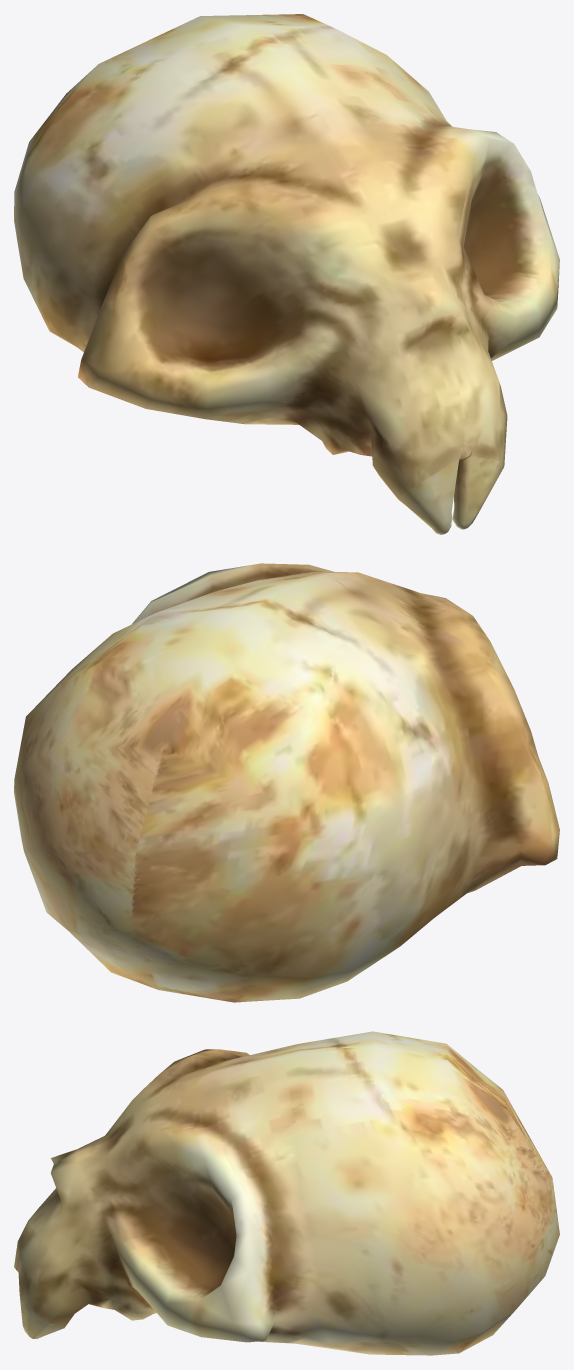
3 views of the same model, one above another, from view 1: azimuth 30°, elevation 25°; view 2: azimuth 150°, elevation 25°; view 3: azimuth 270°, elevation 25° (orthographic). The views are drawn at different scales.
Parts seen in each view (by area): view 1: SM_Chinchompa_Skull_Spectral_01_LOD0; view 2: SM_Chinchompa_Skull_Spectral_01_LOD0; view 3: SM_Chinchompa_Skull_Spectral_01_LOD0.
Part boxes in pixels (<box>): SM_Chinchompa_Skull_Spectral_01_LOD0: <box>14,14,559,534</box>; SM_Chinchompa_Skull_Spectral_01_LOD0: <box>14,563,559,1002</box>; SM_Chinchompa_Skull_Spectral_01_LOD0: <box>14,1031,559,1355</box>.
Size of the model in its own units: 0.3765 by 0.2707 by 0.4659.
1 material, 1 textured.
